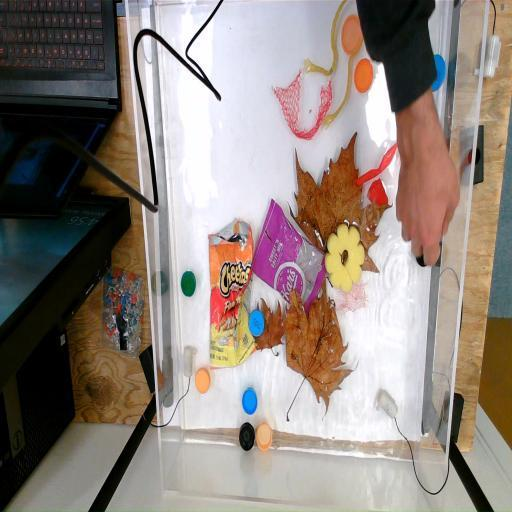Bottle Cap: (426, 49, 448, 100), (340, 14, 366, 54), (352, 57, 376, 94), (239, 422, 255, 452), (256, 423, 273, 451), (181, 270, 197, 298), (195, 366, 211, 394), (250, 308, 264, 339), (242, 388, 258, 415)
Cone Cap: (364, 177, 393, 214)
Leaf: (287, 128, 390, 280), (286, 285, 360, 425), (247, 300, 287, 358)
Netting: (268, 68, 334, 144), (336, 282, 372, 314)
Plastic Bag: (248, 196, 330, 312), (202, 217, 260, 371)
Plastic Strand: (296, 0, 369, 131), (348, 126, 404, 184)
Sponge: (325, 224, 366, 290)
